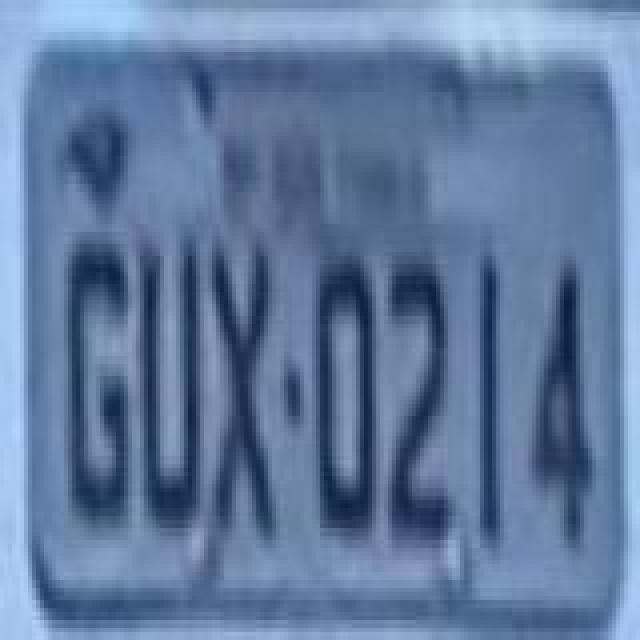1: (476, 254, 500, 546)
2: (386, 260, 454, 548)
4: (526, 260, 594, 556)
G: (60, 236, 132, 532)
O: (312, 254, 376, 546)
U: (136, 232, 208, 536)
X: (208, 236, 280, 548)
